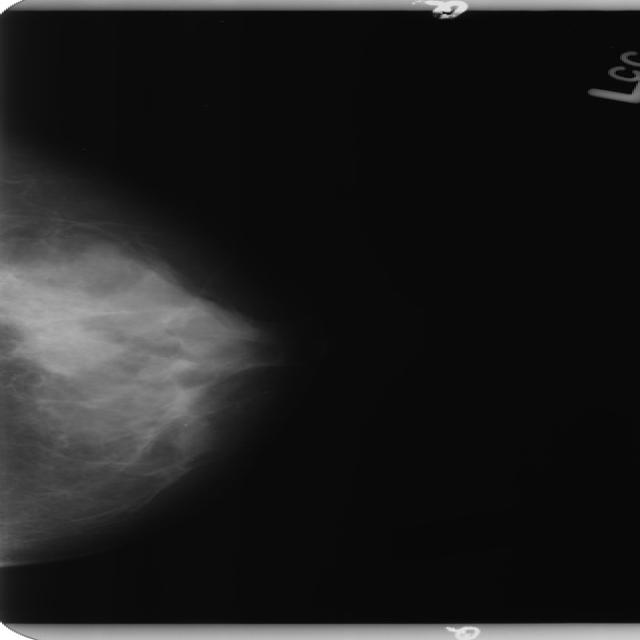tumour: (134, 362, 172, 382)
